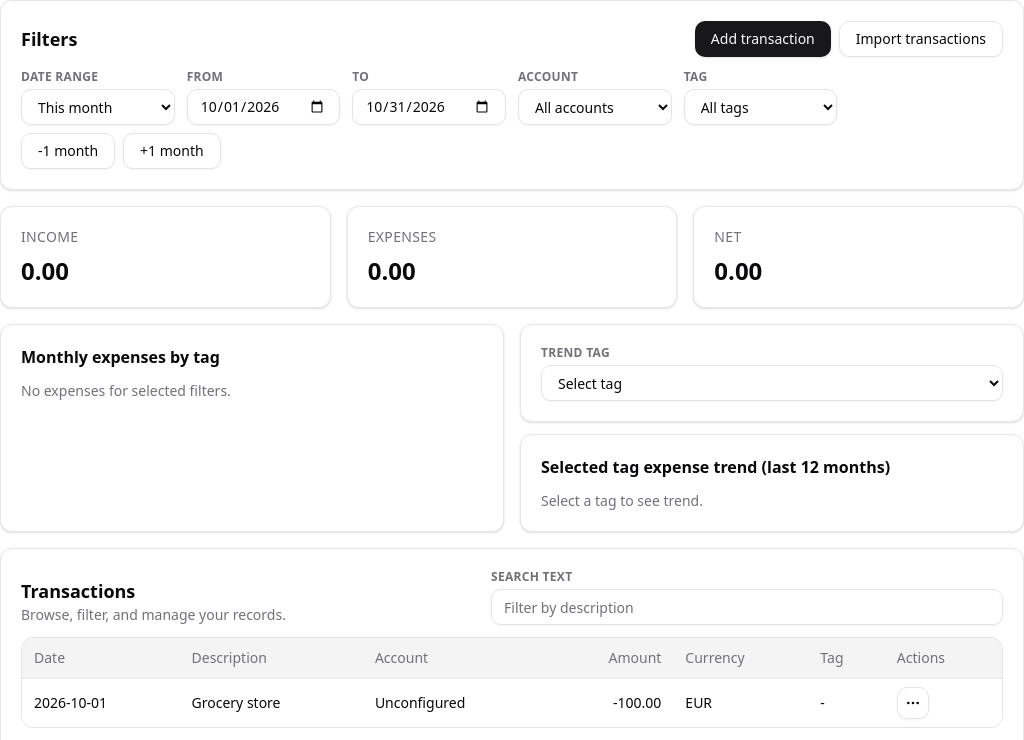
Test: TransactionsPage import dialog gating › shows the warning and keeps Preview import disabled for an unconfigured account
expect the text "Grocery store" is shown: met, box x1=180 y1=678 x2=363 y2=726
Click the button "Import transactions". click: (921, 39)
box: x1=839 y1=21 x2=1003 y2=57
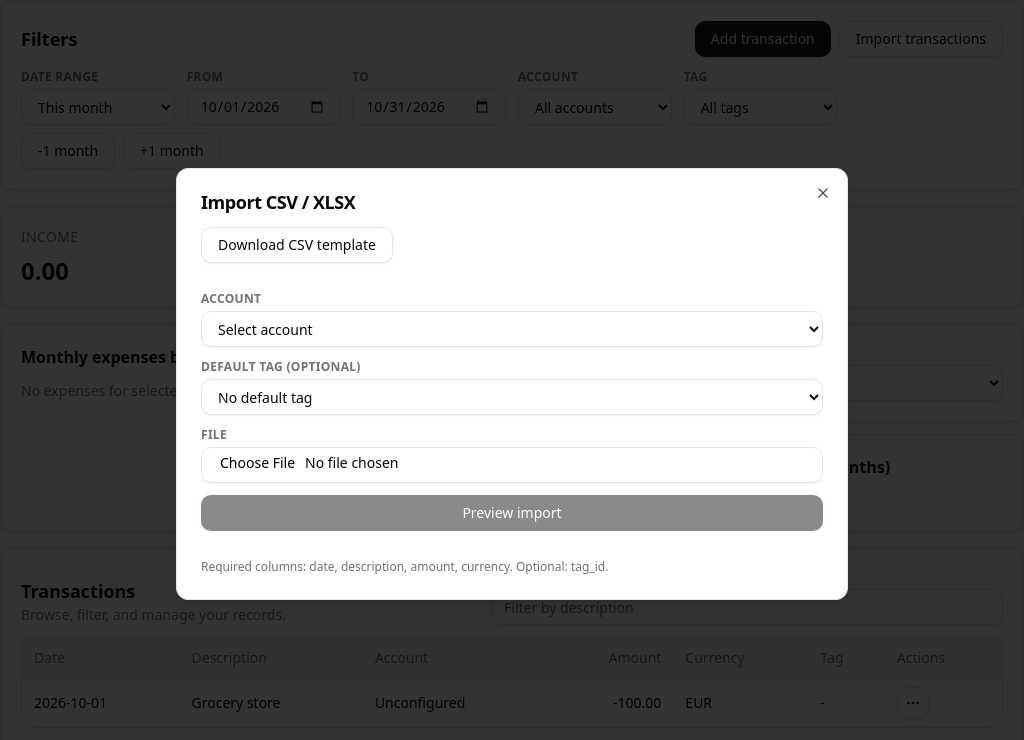
Select "Unconfigured" in the 1st dropdown. click: (512, 329)
box: x1=201 y1=311 x2=823 y2=347
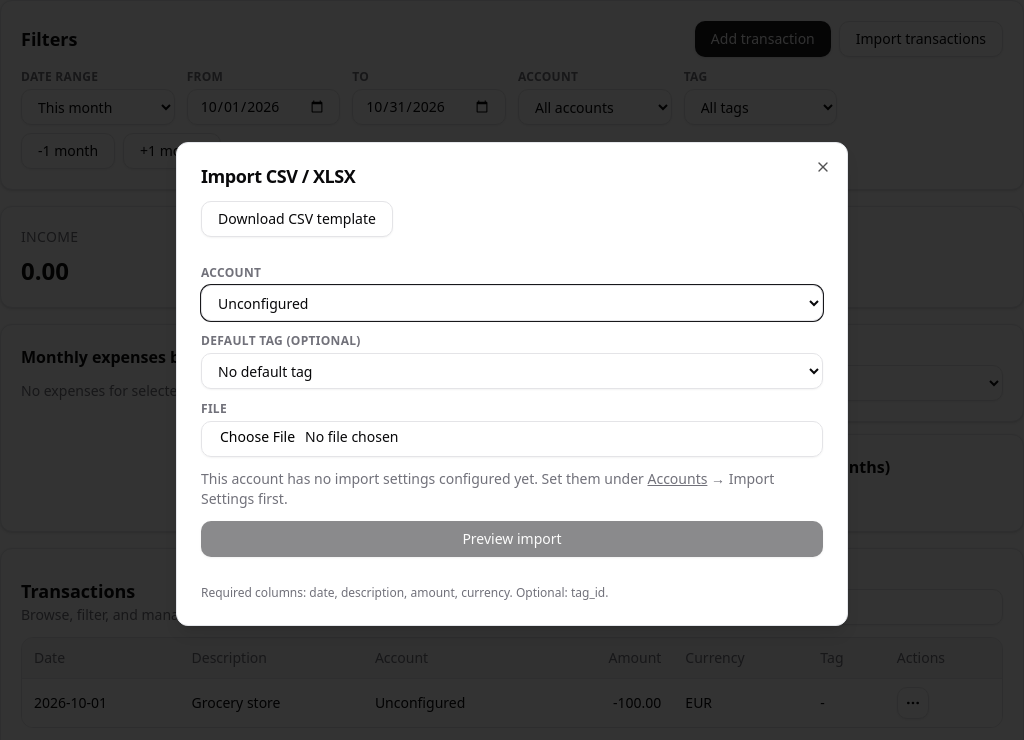
expect the button "Preview import" is disabled: met, box x1=201 y1=521 x2=823 y2=557
expect the text "no import settings configured yet" is shown: met, box x1=201 y1=469 x2=644 y2=488
